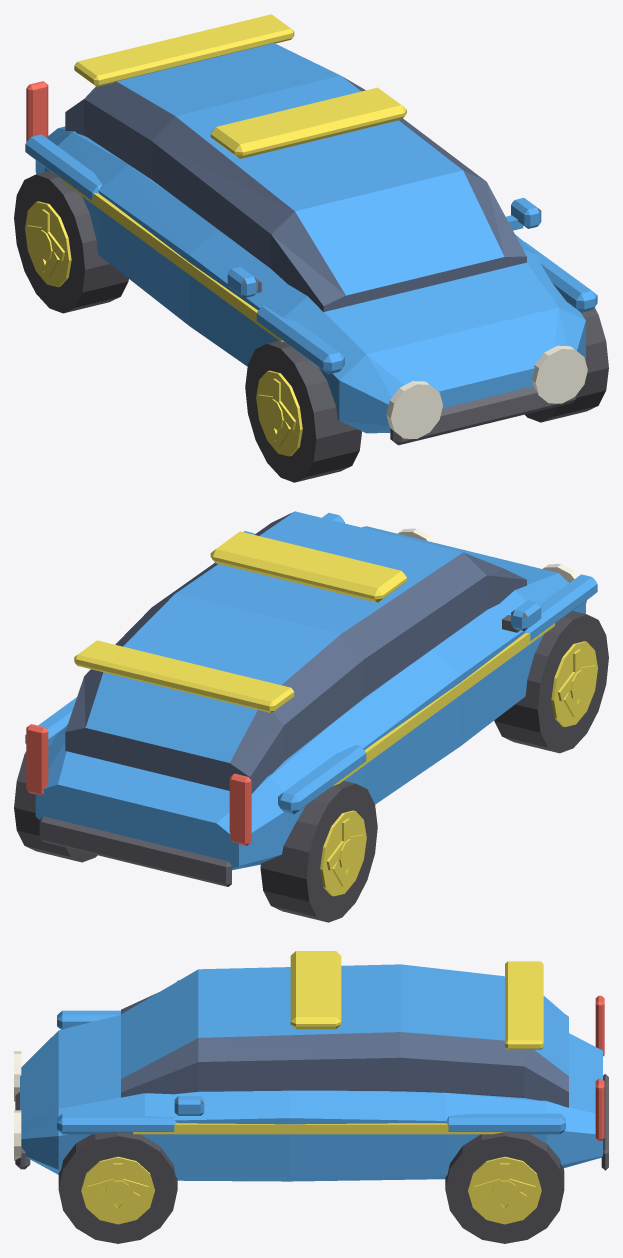
The model's file is Car_zoom.fbx.
3 renders of one model, top to bottom at view 1: azimuth 30°, elevation 25°; view 2: azimuth 150°, elevation 25°; view 3: azimuth 270°, elevation 25°, orthographic. The views are drawn at different scales.
Visible parts, largest first — view 1: Body, Wheel_FL, Wheel_RL, Wheel_FR; view 2: Body, Wheel_RL, Wheel_FL, Wheel_RR; view 3: Body, Wheel_RR, Wheel_FR.
Boxes of the visible parts, bbox=[...] form: Body: bbox=[25, 14, 597, 445]; Wheel_FL: bbox=[245, 341, 361, 482]; Wheel_RL: bbox=[14, 171, 128, 313]; Wheel_FR: bbox=[525, 307, 608, 422]; Body: bbox=[25, 511, 597, 886]; Wheel_RL: bbox=[260, 780, 377, 922]; Wheel_FL: bbox=[494, 611, 608, 753]; Wheel_RR: bbox=[14, 751, 97, 862]; Body: bbox=[14, 951, 608, 1181]; Wheel_RR: bbox=[445, 1132, 564, 1243]; Wheel_FR: bbox=[58, 1132, 177, 1243].
Size of what is drawn, in the model's own units: 1.98 by 1.49 by 4.
